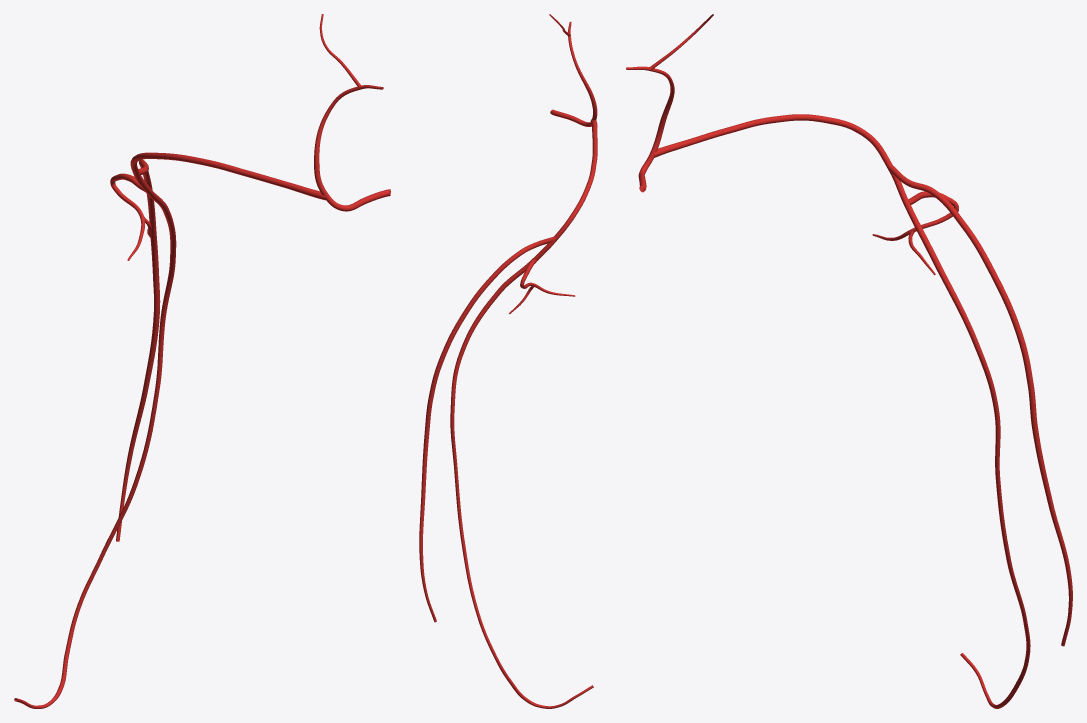
File: circulatorio-transverse-cervical-artery-r.glb
3 views of the same model, side by side, from view 1: azimuth 30°, elevation 25°; view 2: azimuth 150°, elevation 25°; view 3: azimuth 270°, elevation 25° (orthographic). The views are drawn at different scales.
Visible parts, largest first — view 1: (Deep branch of transverse cervical artery).r, (Superficial branch of transverse cervical artery).r, Transverse cervical artery.r; view 2: (Deep branch of transverse cervical artery).r, (Superficial branch of transverse cervical artery).r, Transverse cervical artery.r; view 3: (Deep branch of transverse cervical artery).r, (Superficial branch of transverse cervical artery).r, Transverse cervical artery.r.
Boxes of the visible parts, x1=… form: (Deep branch of transverse cervical artery).r: x1=14, y1=152, x2=326, y2=708; (Superficial branch of transverse cervical artery).r: x1=116, y1=159, x2=160, y2=541; Transverse cervical artery.r: x1=314, y1=14, x2=390, y2=211; (Deep branch of transverse cervical artery).r: x1=450, y1=119, x2=597, y2=708; (Superficial branch of transverse cervical artery).r: x1=419, y1=236, x2=555, y2=622; Transverse cervical artery.r: x1=549, y1=14, x2=597, y2=126; (Deep branch of transverse cervical artery).r: x1=650, y1=114, x2=1030, y2=708; (Superficial branch of transverse cervical artery).r: x1=888, y1=165, x2=1072, y2=646; Transverse cervical artery.r: x1=626, y1=14, x2=713, y2=192.
Size of the model in its own units: 0.0655 by 0.2204 by 0.1179.
